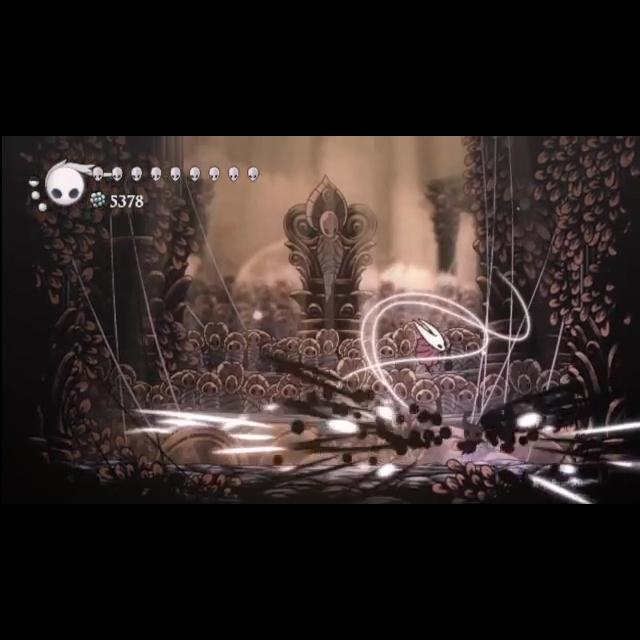EnemyAirAttack: (397, 314, 461, 378)
PlayerDamaged: (452, 409, 496, 459)
